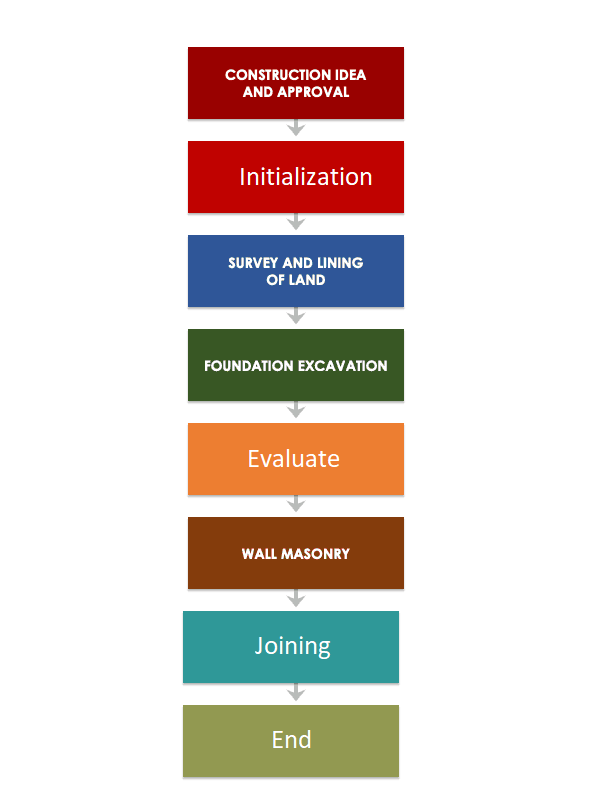arrow: (282, 491, 310, 514), (283, 208, 309, 230), (282, 303, 308, 325), (282, 586, 308, 608), (282, 398, 309, 419), (283, 681, 308, 703), (284, 114, 307, 134)
process: (183, 230, 408, 313), (178, 606, 403, 687), (184, 43, 407, 124), (180, 701, 403, 781), (184, 138, 408, 217), (184, 514, 408, 593), (184, 325, 407, 404), (183, 419, 408, 497)
text: (223, 64, 371, 101), (225, 253, 367, 287), (202, 355, 393, 375), (238, 164, 377, 190), (250, 632, 333, 662), (247, 445, 339, 470), (238, 544, 352, 562), (270, 728, 319, 753)
